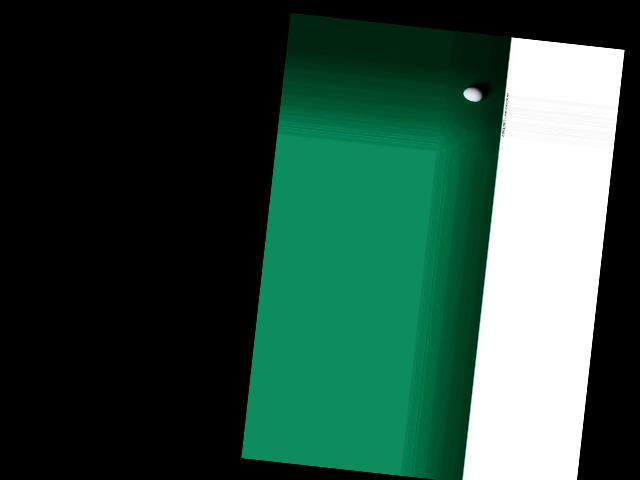egg: (462, 86, 484, 103)
